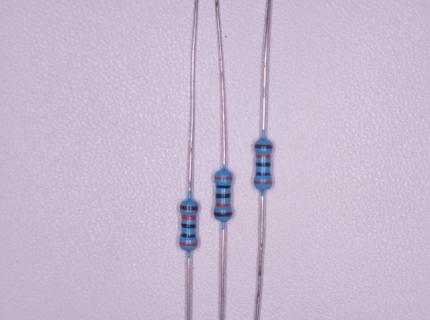Black band: (181, 222, 196, 229), (216, 192, 231, 199), (255, 161, 271, 167), (255, 171, 272, 176), (181, 233, 196, 238), (216, 184, 231, 189)
Brown band: (180, 205, 198, 211), (254, 144, 273, 149), (214, 212, 232, 217)
Orange band: (256, 153, 272, 159), (254, 180, 273, 185), (181, 215, 197, 220), (213, 176, 233, 180), (179, 242, 198, 246), (216, 202, 231, 207)
